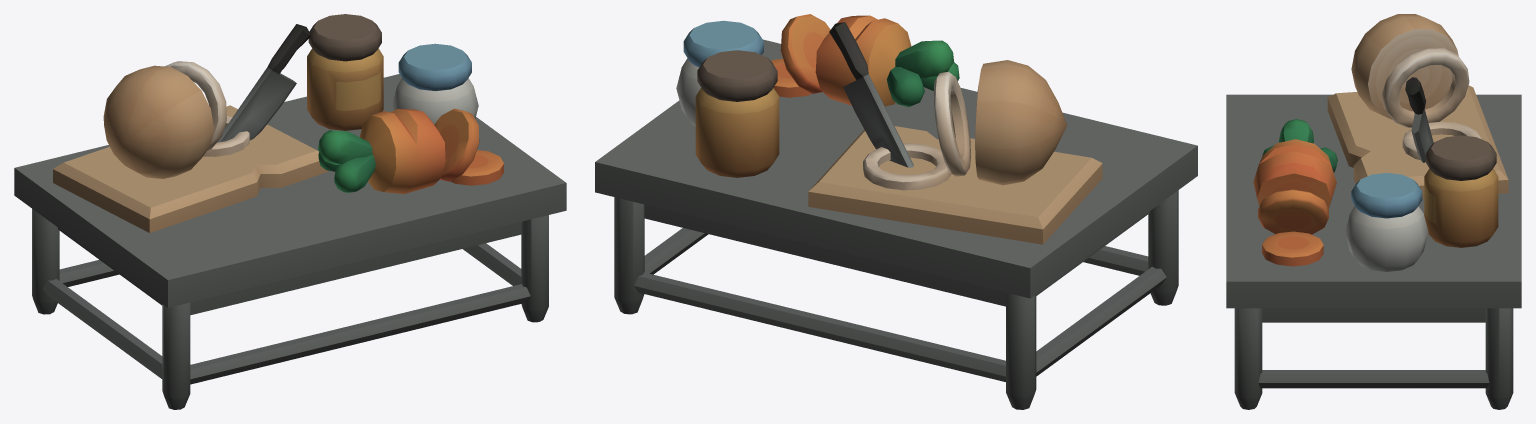
Rendered from kitchentable-a-large-decorated.glb.
The picture shows the model from 3 angles, left to right: view 1: azimuth 30°, elevation 25°; view 2: azimuth 150°, elevation 25°; view 3: azimuth 270°, elevation 25°; orthographic projection. The views are drawn at different scales.
Parts seen in each view (by area): view 1: kitchentable-a-large-decorated; view 2: kitchentable-a-large-decorated; view 3: kitchentable-a-large-decorated.
Part boxes in pixels (x1,y1,x2,y2): kitchentable-a-large-decorated: (14, 14, 566, 409); kitchentable-a-large-decorated: (595, 14, 1197, 409); kitchentable-a-large-decorated: (1226, 14, 1521, 409).
Bounding box in the file's own units: 1.71 × 1.1 × 1.14.
